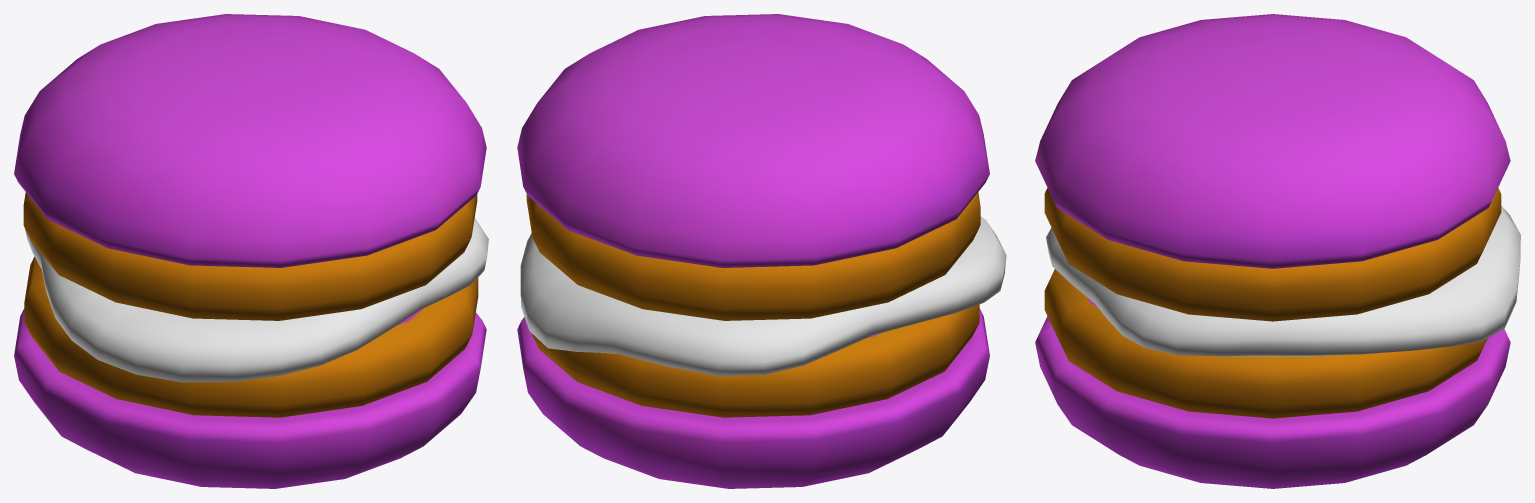
Rendered from model_Cookies.fbx.
3 views of the same model, side by side, from view 1: azimuth 30°, elevation 25°; view 2: azimuth 150°, elevation 25°; view 3: azimuth 270°, elevation 25° (orthographic).
Parts seen in each view (by area): view 1: model_Cookies; view 2: model_Cookies; view 3: model_Cookies.
Part boxes in pixels (box(x1,y1,x2,y2)): model_Cookies: box(14, 14, 488, 488); model_Cookies: box(517, 14, 1006, 488); model_Cookies: box(1035, 14, 1520, 488).
Size of the model in its own units: 41.61 by 35.45 by 42.44.
